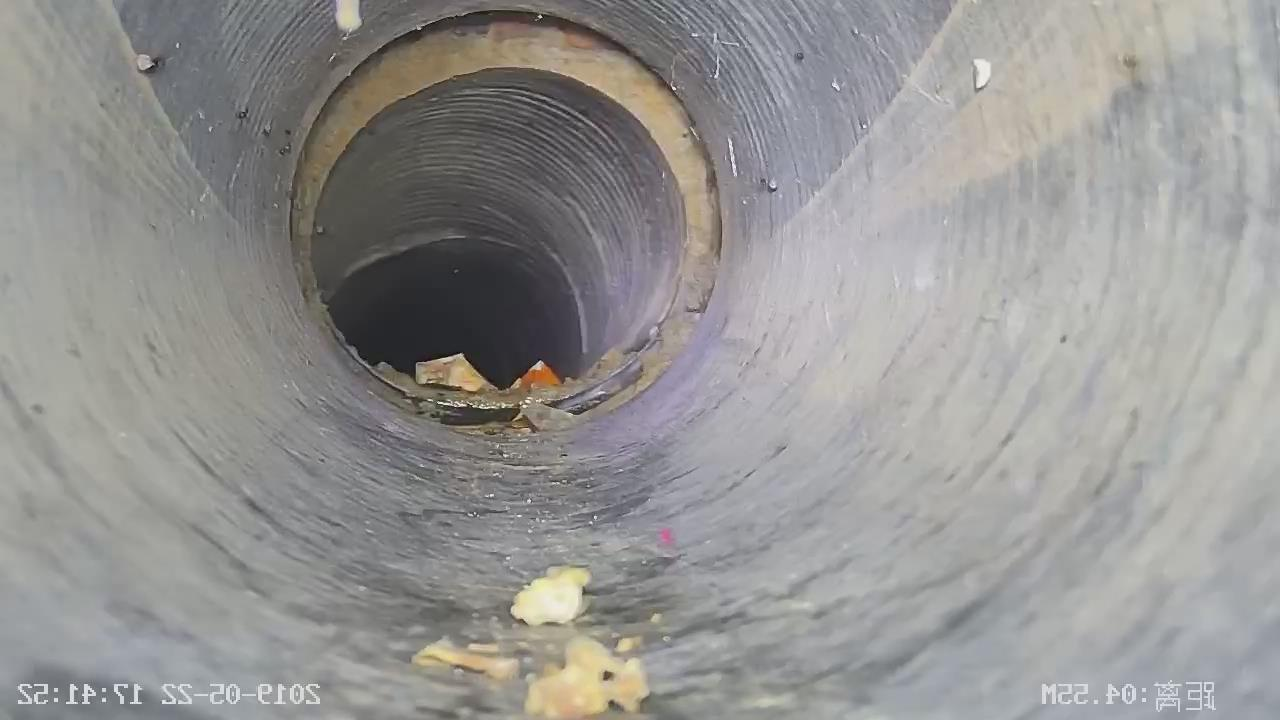CKTJ: (292, 12, 723, 429)
